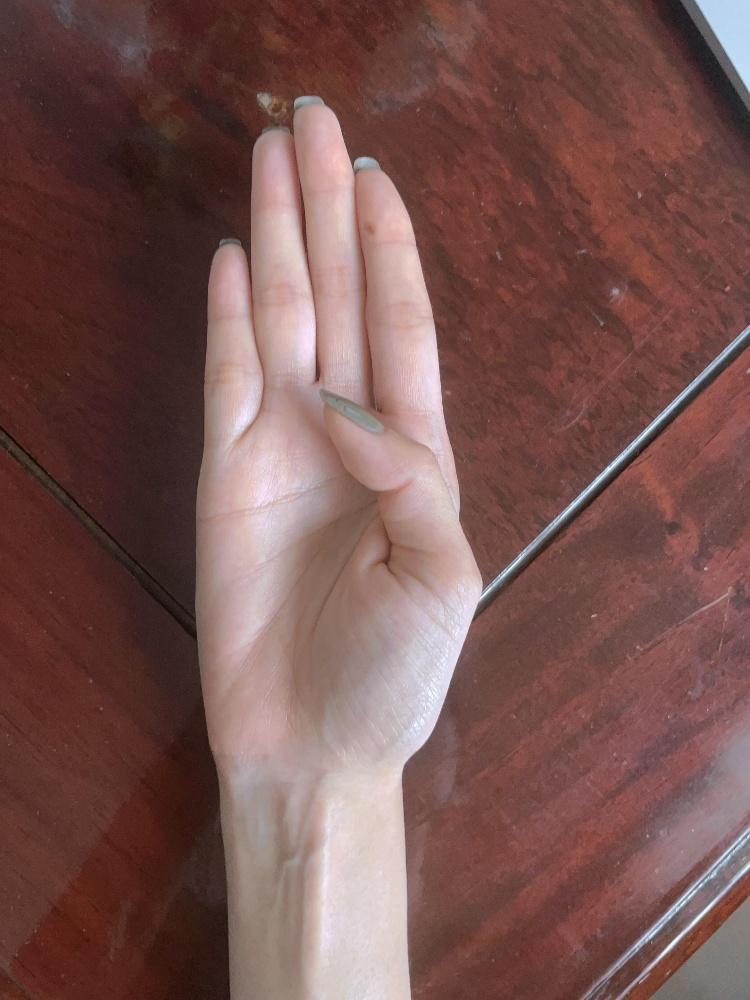b: (191, 95, 486, 768)
